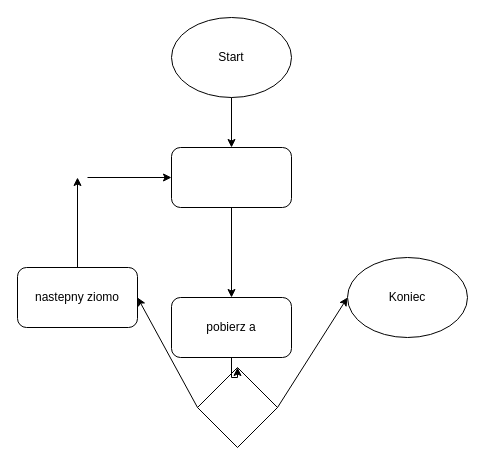
Image size: 485x465. Some labels were removed from this diagram. The centre of each missing label's shape, as x and y in pixels:
"a!=0" goes at point (237, 407).
"suma=0" goes at point (231, 177).
